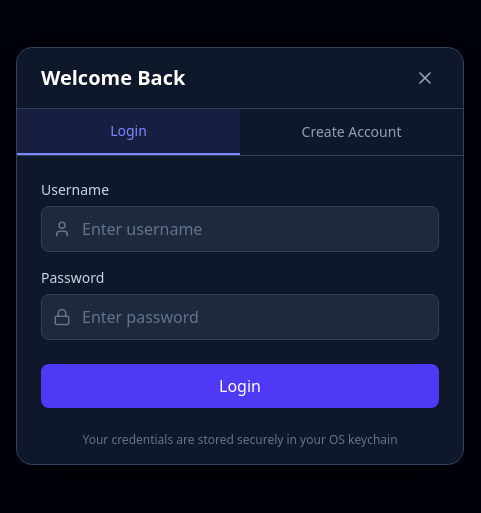
LoginModal › should handle login failure
The image size is (481, 513).
In the field with placeholder "Enter username": (240,229) [41,206,439,252], type "testuser"
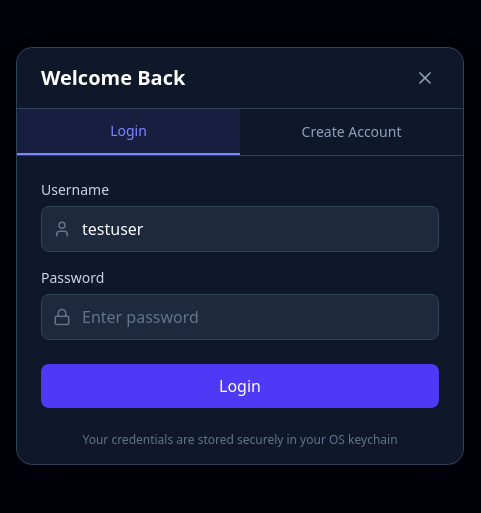
In the password field with placeholder "Enter password": (240,317) [41,294,439,340], type "wrongpass"
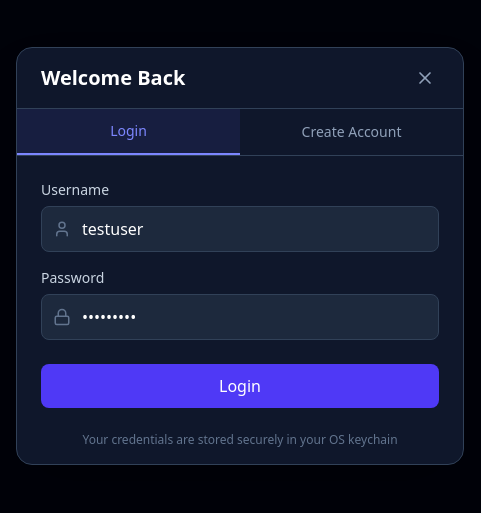
Click the button "Login" below "Password": (240,386) [41,364,439,408]
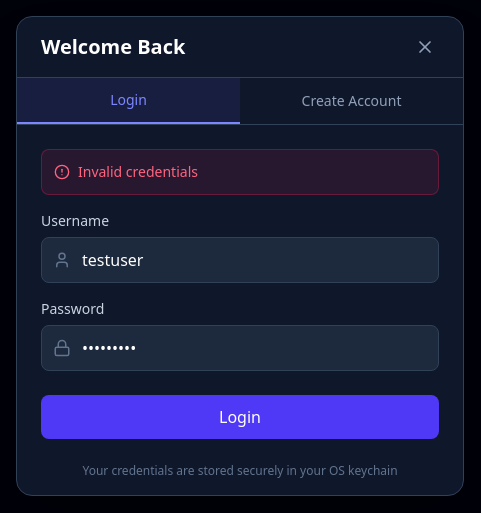
Now the text "Invalid credentials" is shown, box [41,149,439,195]
